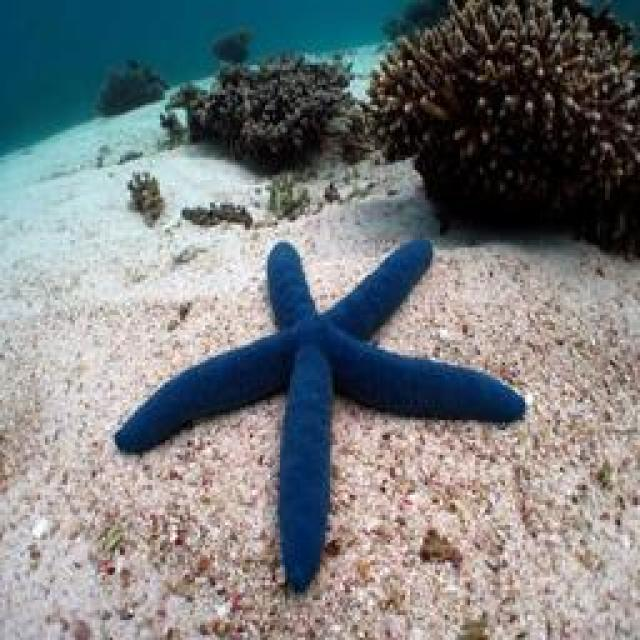reefs: (112, 239, 529, 598), (366, 0, 638, 260), (159, 51, 371, 176), (99, 54, 170, 119), (379, 1, 446, 43), (211, 29, 250, 65)
